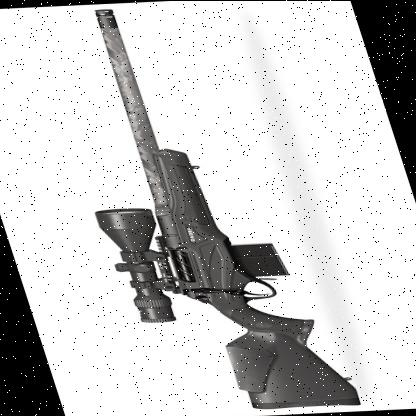rifle: (47, 1, 373, 413)
